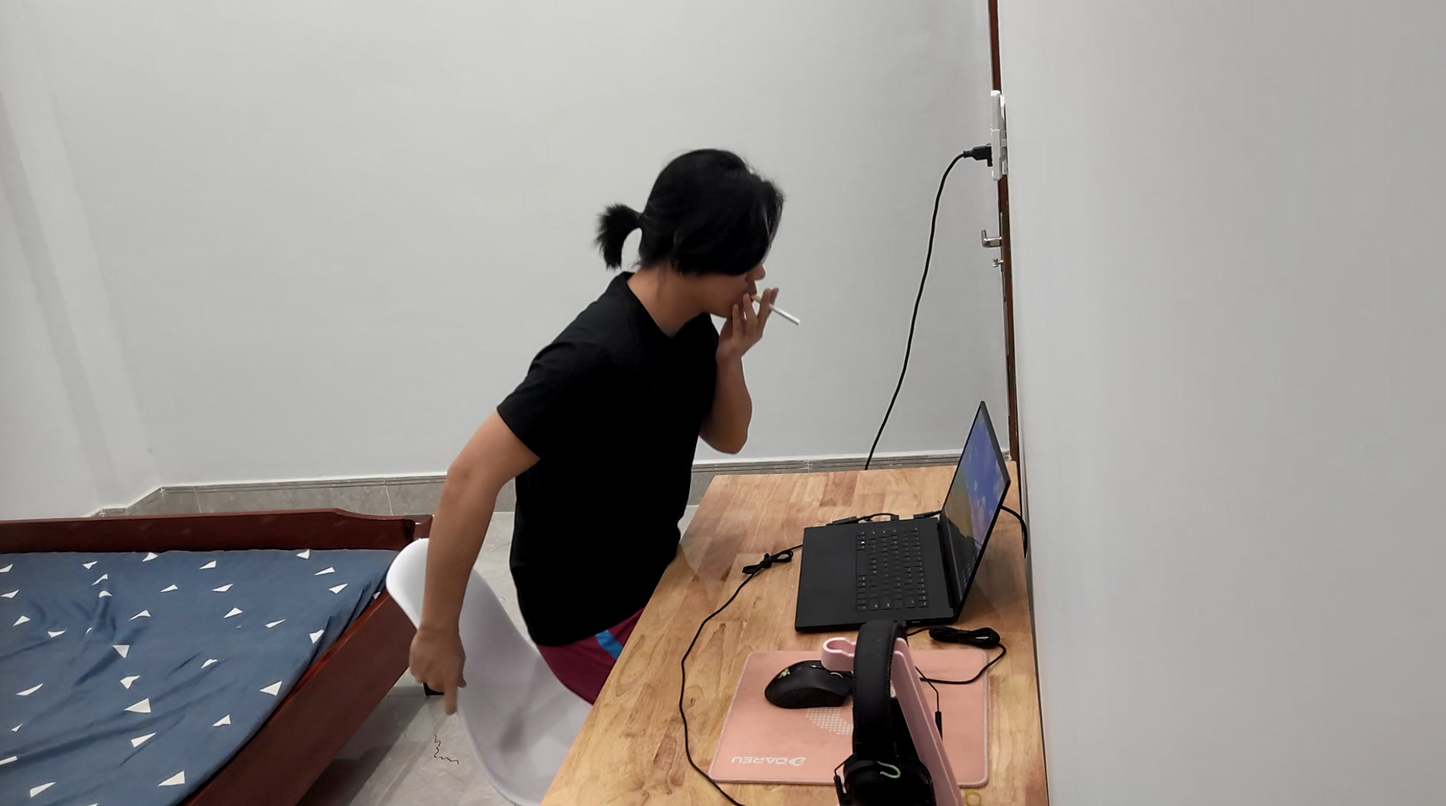cigarette: (745, 286, 805, 330)
person: (461, 121, 795, 740)
